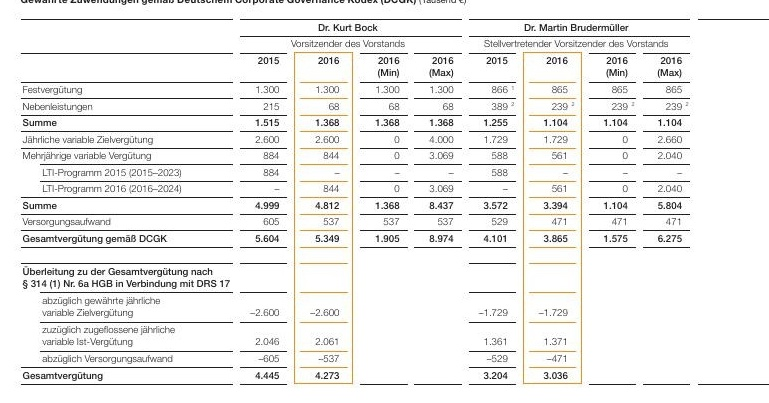table: (0, 0, 769, 403)
